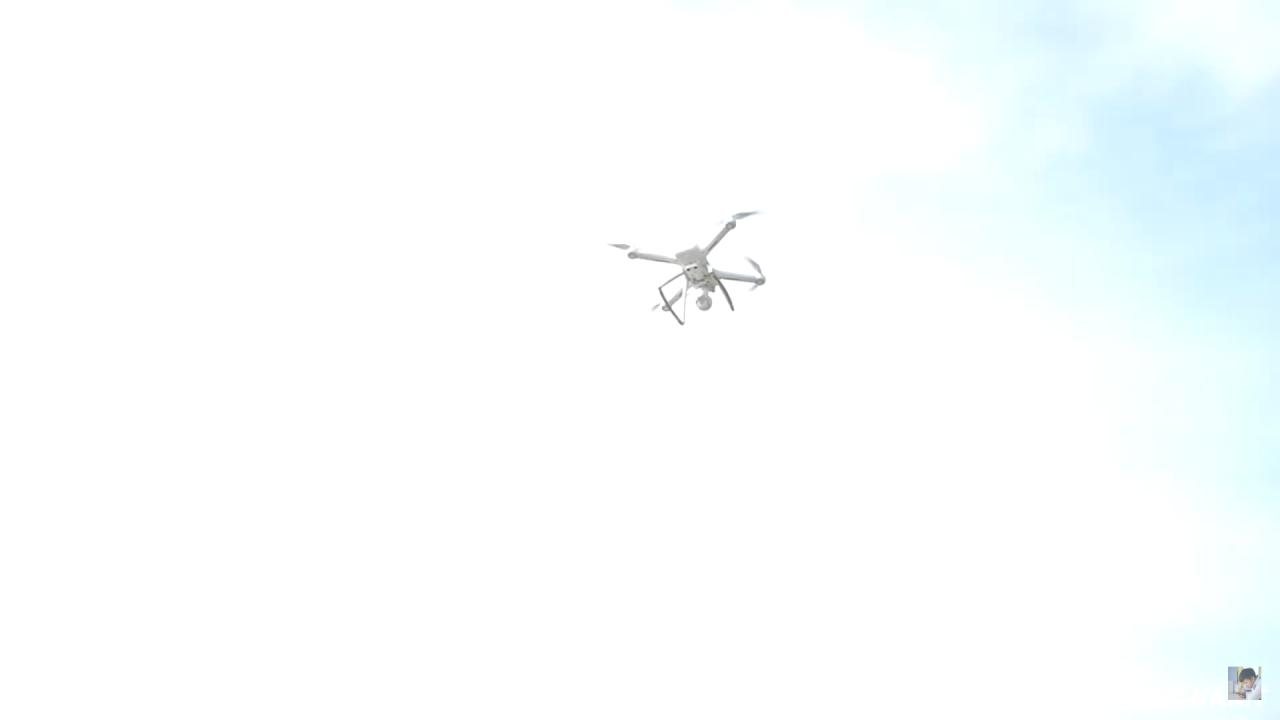Drone: (592, 194, 784, 338)
